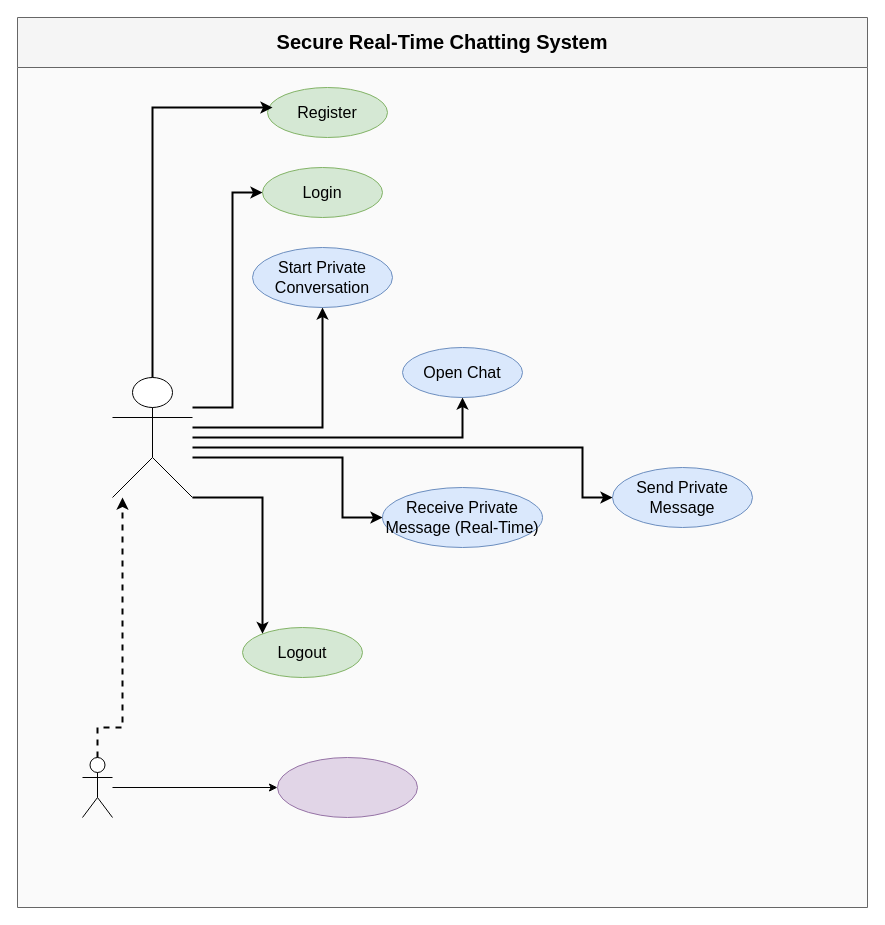
The diagram is 885 pixels wide and 925 high, and some of its shapes have lost their labels. Each missing label, with the centre of its shape:
Suspend/Ban User: [347,787]
System Administrator: [97,787]
User: [152,437]
